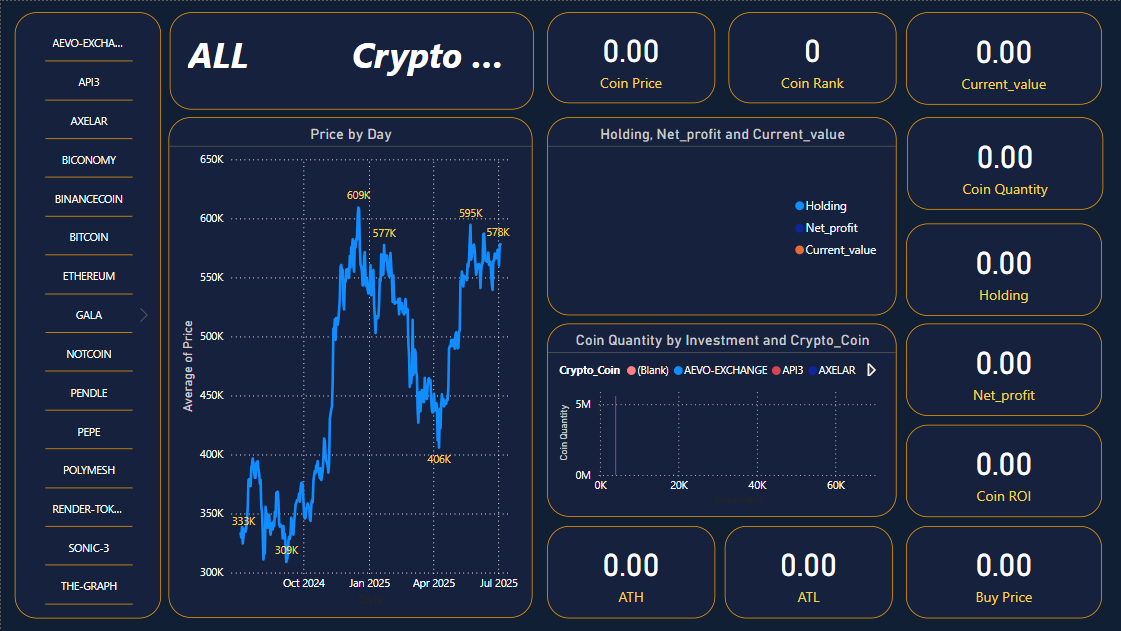

The dashboard page shown, as its layout file describes it:
{"tool":"powerbi","page":{"name":"Coin Details","canvas":[1280,720],"ordinal":1},"visuals":[{"type":"slicer","fields":{"Values":["Portfolio.Crypto_Coin"]},"box":[15.7,12.9,167.1,692.9],"z":0},{"type":"card","fields":{"Values":["Portfolio.Coin Price"]},"box":[624.4,12.3,192.1,104.3],"z":1000},{"type":"card","fields":{"Values":["Portfolio.ATH"]},"box":[624.4,599.7,192.1,105.7],"z":2000},{"type":"card","fields":{"Values":["Portfolio.Coin Quantity"]},"box":[1035.7,132.9,224.3,105.7],"z":3000},{"type":"card","fields":{"Values":["Portfolio.ATL"]},"box":[827.4,599.7,192.1,105.7],"z":4000},{"type":"card","fields":{"Values":["Portfolio.Coin ROI"]},"box":[1034.3,484.3,224.3,105.7],"z":5000},{"type":"card","fields":{"Values":["Portfolio.Holding"]},"box":[1034.3,254.3,224.3,105.7],"z":6000},{"type":"card","fields":{"Values":["Portfolio.Net_Profit"]},"box":[1034.3,12.9,224.3,105.7],"z":7000},{"type":"card","fields":{"Values":["Portfolio.Net_profit"]},"box":[1034.3,368.6,224.3,105.7],"z":8000},{"type":"lineChart","title":" Price by Day","fields":{"Category":["Historical coin data.Date"],"Y":["Avg(Historical coin data.Price)"]},"box":[192.1,133.1,415.8,572.2],"z":9000},{"type":"ribbonChart","fields":{"Y":["Portfolio.Coin Quantity"],"Series":["Portfolio.Crypto_Coin"],"Category":["Portfolio.Investment"]},"box":[624.4,369.1,399.3,220.9],"z":10000},{"type":"donutChart","title":"Holding, Net_profit and Current_value","fields":{"Y":["Portfolio.Holding","Portfolio.Net_profit","Portfolio.Current_value"]},"box":[624.4,133.1,399.3,226.4],"z":11000},{"type":"card","fields":{"Values":["Portfolio.Buy Price"]},"box":[1034.3,600,224.3,105.7],"z":12000},{"type":"card","fields":{"Values":["Portfolio.Coin Rank"]},"box":[831.6,12.3,192.1,104.3],"z":13000},{"type":"multiRowCard","fields":{"Values":["Crypto_coin data.image1","Portfolio.Coin Name"]},"box":[193.5,12.3,415.8,111.1],"z":14000},{"type":"actionButton","box":[290,32.9,100,64.3],"z":15000}]}

Visuals, with their boxes in screenshot pixels (x1, y1, x2, y2), scaled from the page's 1280x720 canvas onto the 1121x631 screenshot:
slicer - Portfolio.Crypto_Coin: (14, 11, 160, 619)
card - Portfolio.Coin Price: (547, 11, 715, 102)
card - Portfolio.ATH: (547, 526, 715, 618)
card - Portfolio.Coin Quantity: (907, 116, 1103, 209)
card - Portfolio.ATL: (725, 526, 893, 618)
card - Portfolio.Coin ROI: (906, 424, 1102, 517)
card - Portfolio.Holding: (906, 223, 1102, 316)
card - Portfolio.Net_Profit: (906, 11, 1102, 104)
card - Portfolio.Net_profit: (906, 323, 1102, 416)
" Price by Day" lineChart: (168, 117, 532, 618)
ribbonChart - Portfolio.Coin Quantity x Portfolio.Crypto_Coin: (547, 323, 897, 517)
"Holding, Net_profit and Current_value" donutChart: (547, 117, 897, 315)
card - Portfolio.Buy Price: (906, 526, 1102, 618)
card - Portfolio.Coin Rank: (728, 11, 897, 102)
multiRowCard - Crypto_coin data.image1 x Portfolio.Coin Name: (169, 11, 534, 108)
actionButton: (254, 29, 342, 85)
